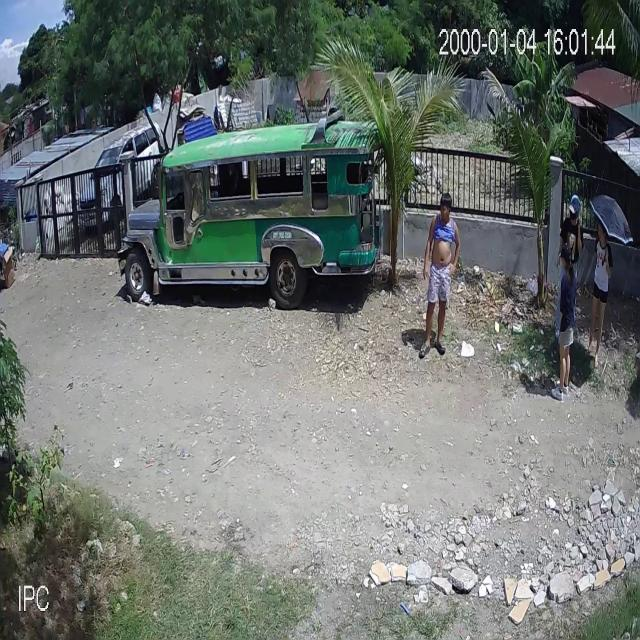standing: (421, 194, 459, 364), (548, 248, 580, 405), (554, 190, 586, 340), (585, 215, 611, 368)
